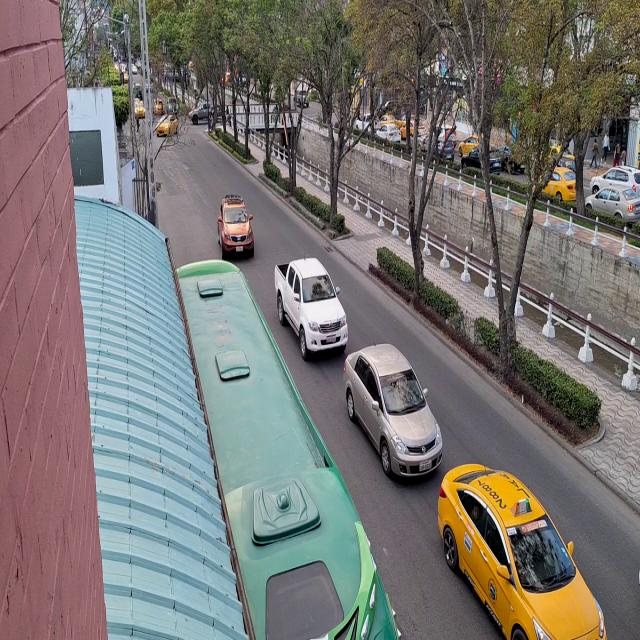CMT: (278, 261, 351, 356)
SED: (443, 465, 614, 640), (343, 345, 441, 481)
SUV: (217, 194, 251, 256)
